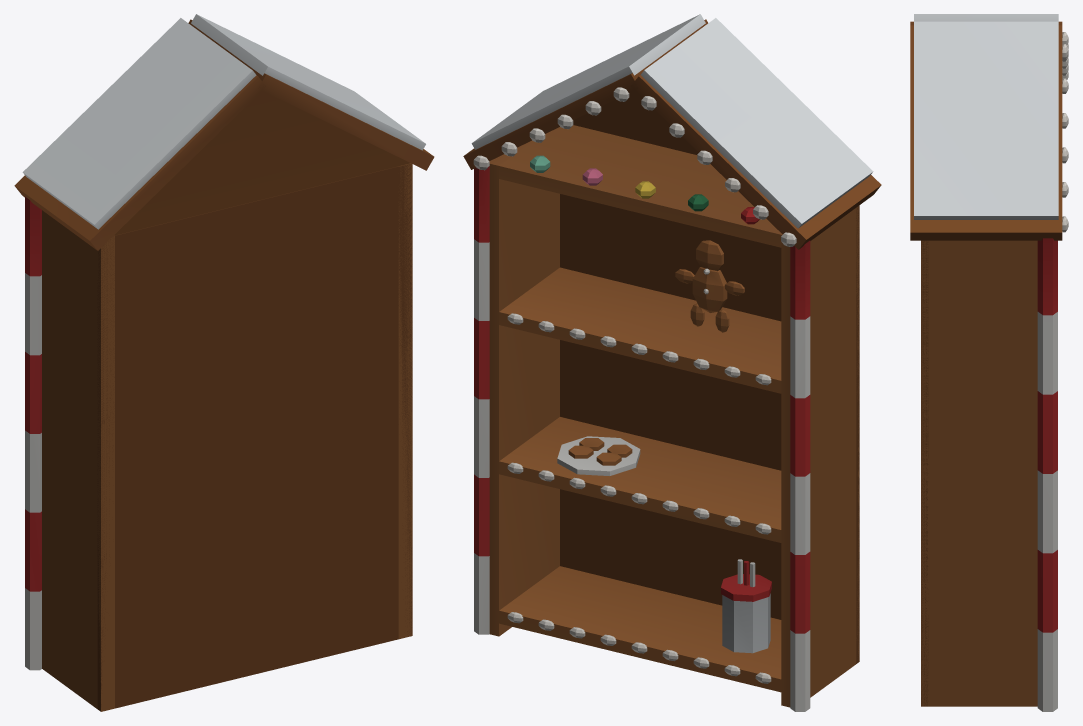
The model's file is xmas_gingerbread_shelf_low.glb.
The picture shows the model from 3 angles, left to right: view 1: azimuth 30°, elevation 25°; view 2: azimuth 150°, elevation 25°; view 3: azimuth 270°, elevation 25°; orthographic projection.
Bounding box in the file's own units: 1.11 × 1.87 × 0.4376.
